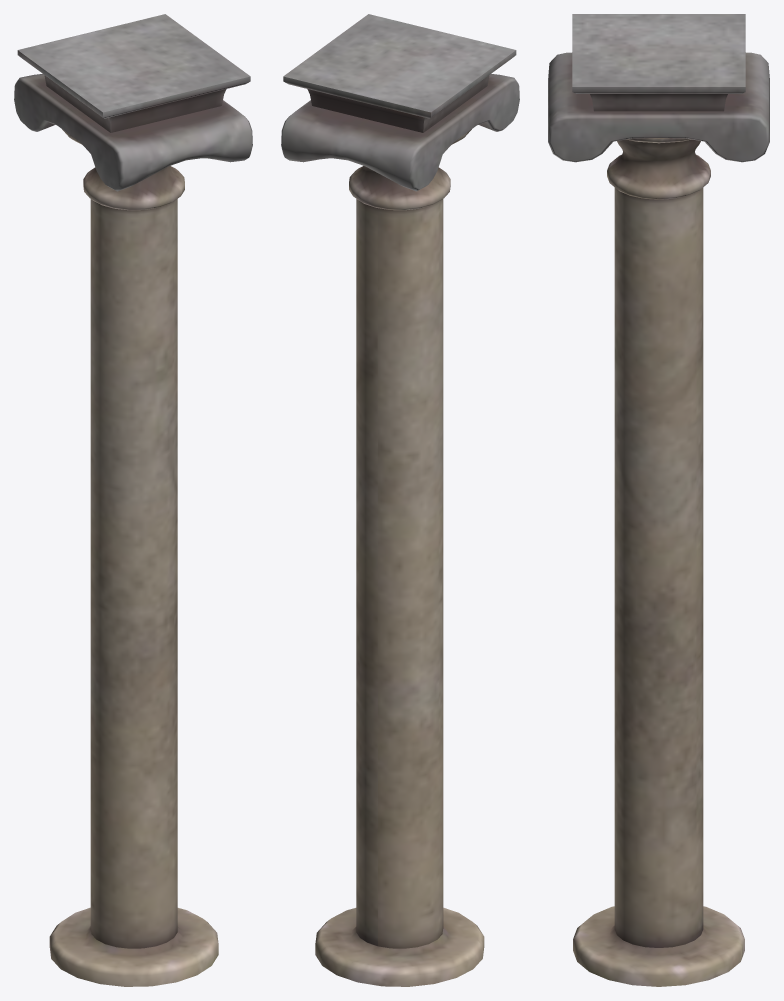
File: patrick-pillar.glb
The picture shows the model from 3 angles, left to right: view 1: azimuth 30°, elevation 25°; view 2: azimuth 150°, elevation 25°; view 3: azimuth 270°, elevation 25°; orthographic projection.
Visible parts, largest first — view 1: Pillar; view 2: Pillar; view 3: Pillar.
Boxes of the visible parts, x1=… form: Pillar: x1=14, y1=14, x2=252, y2=986; Pillar: x1=281, y1=14, x2=519, y2=986; Pillar: x1=548, y1=14, x2=769, y2=986.
Size of the model in its own units: 0.0106 by 0.061 by 0.0136.
Materials: 1 (1 with a texture image).
